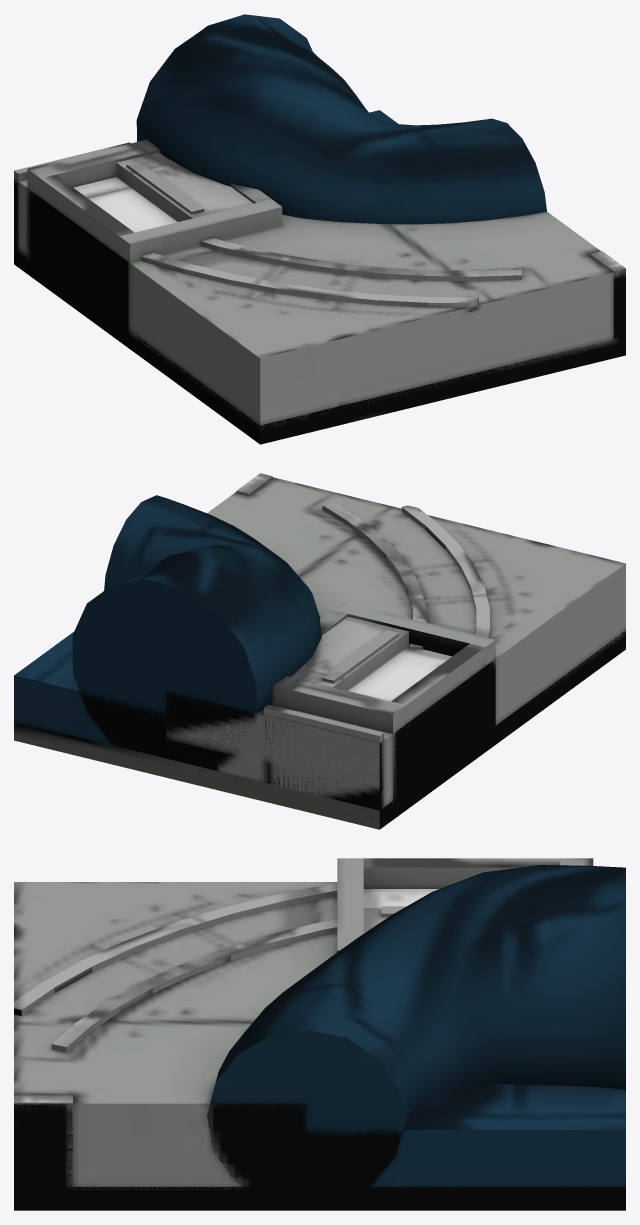
The model's file is newshb-117-f3.glb.
3 renders of one model, top to bottom at view 1: azimuth 30°, elevation 25°; view 2: azimuth 150°, elevation 25°; view 3: azimuth 270°, elevation 25°, orthographic. The views are drawn at different scales.
Visible parts, largest first — view 1: newshb-117, newshb-117-f3-hatch; view 2: newshb-117, newshb-117-f3-hatch; view 3: newshb-117, newshb-117-f3-hatch.
Boxes of the visible parts, x1,y1,x2,y2 form: newshb-117: (14, 14, 625, 444); newshb-117-f3-hatch: (116, 152, 253, 221); newshb-117: (14, 473, 625, 829); newshb-117-f3-hatch: (290, 616, 408, 690); newshb-117: (14, 858, 625, 1210); newshb-117-f3-hatch: (363, 906, 406, 933).
Bounding box in the file's own units: 2 × 1.01 × 2.33.
Materials: 7 (7 with a texture image).
